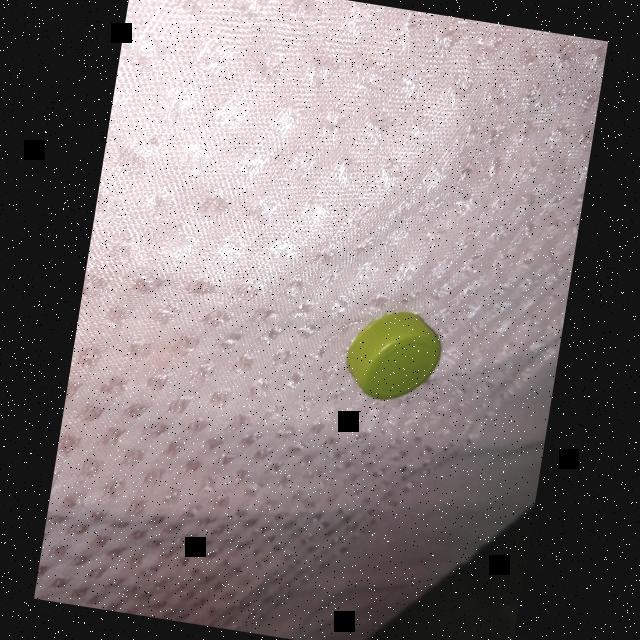plastic_bottle_cap: (339, 305, 446, 409)
